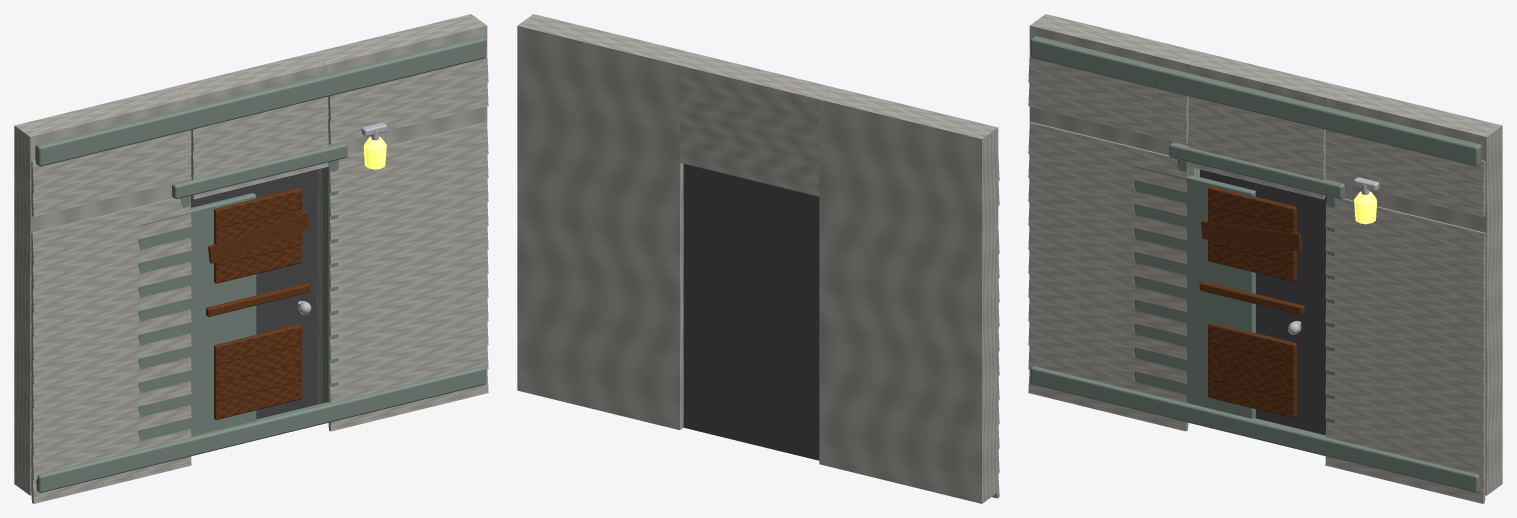
The model's file is halloween-slasher-street-porch-door-bay-2ce32211__27266.glb.
3 views of the same model, side by side, from view 1: azimuth 30°, elevation 25°; view 2: azimuth 150°, elevation 25°; view 3: azimuth 330°, elevation 25° (orthographic).
Parts seen in each view (by area): view 1: porch-door-bay, door-front/timber, door-front/paint; view 2: porch-door-bay; view 3: porch-door-bay, door-front/timber, door-front/paint.
Part boxes in pixels (x1,y1,x2,y2): porch-door-bay: (14,14,488,503); door-front/timber: (206,187,310,419); door-front/paint: (138,193,256,441); porch-door-bay: (517,14,999,503); porch-door-bay: (1028,14,1502,503); door-front/timber: (1199,186,1304,418); door-front/paint: (1135,166,1255,418).
Size of the model in its own units: 4 by 3.06 by 0.4.
Materials: 6 (2 with a texture image).
